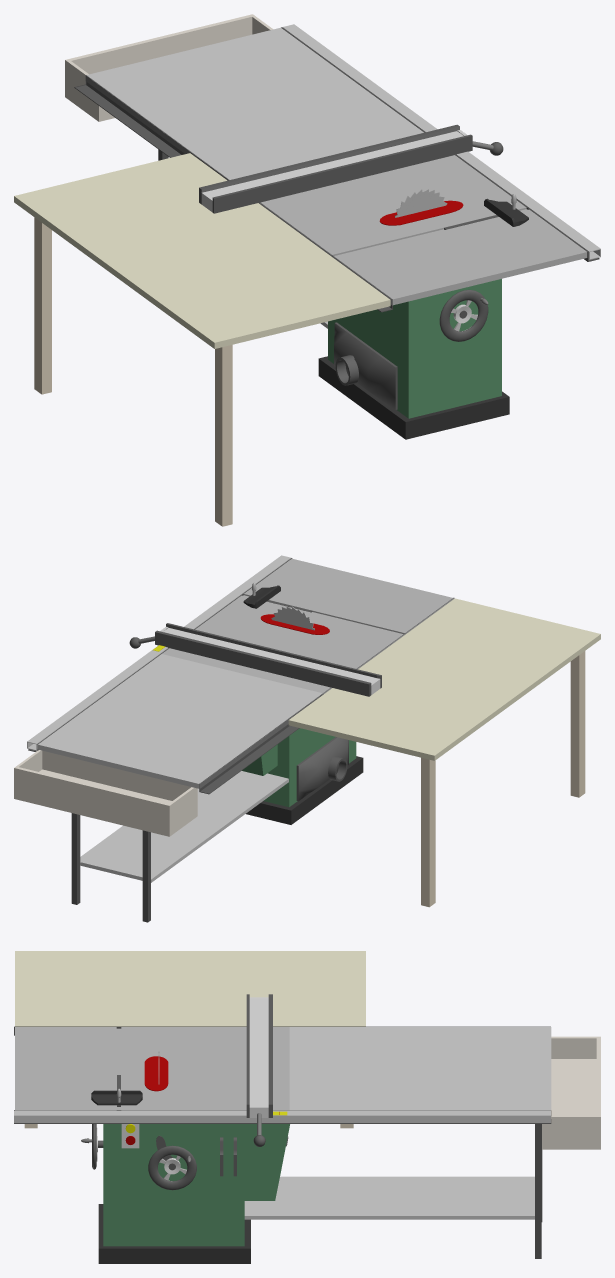
File: Tablesaw.fbx
3 views of the same model, one above another, from view 1: azimuth 30°, elevation 25°; view 2: azimuth 150°, elevation 25°; view 3: azimuth 270°, elevation 25° (orthographic). The views are drawn at different scales.
Visible parts, largest first — view 1: Table, Fence, Blade, polySurface11; view 2: Table, Fence, Blade, polySurface11; view 3: Table, Fence, polySurface11.
Boxes of the visible parts, bbox=[...] form: Table: bbox=[14, 14, 600, 526]; Fence: bbox=[199, 124, 503, 213]; Blade: bbox=[395, 189, 447, 217]; polySurface11: bbox=[484, 194, 528, 226]; Table: bbox=[14, 555, 600, 922]; Fence: bbox=[129, 623, 381, 696]; Blade: bbox=[271, 606, 314, 630]; polySurface11: bbox=[243, 582, 280, 608]; Table: bbox=[14, 951, 600, 1263]; Fence: bbox=[246, 994, 287, 1146]; polySurface11: bbox=[91, 1088, 142, 1105].
Bounding box in the file's own units: 2.37 × 1.13 × 3.22.
